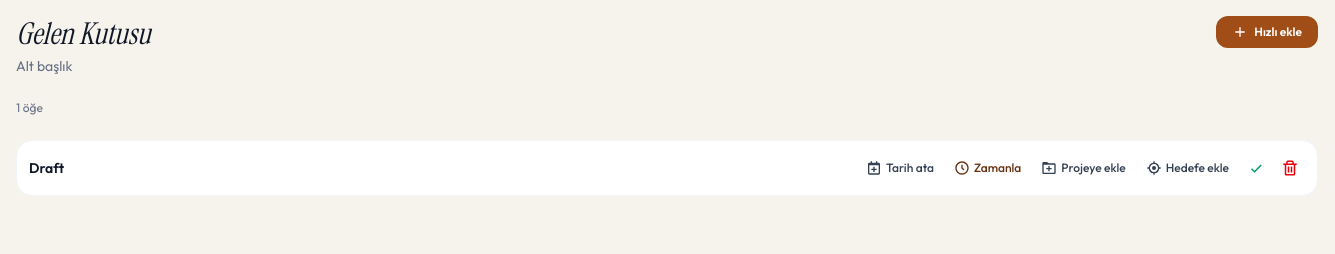
Test: InboxPage › attach to a goal › says so when there is no active goal
Click the button "Hedefe ekle": (1187, 168) [1138,156,1237,180]
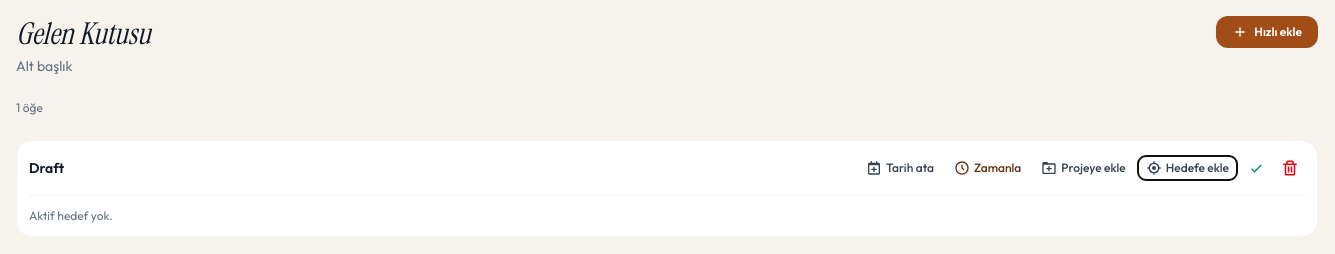
Now the text "Aktif hedef yok." is shown, box [29,195,1305,224]
